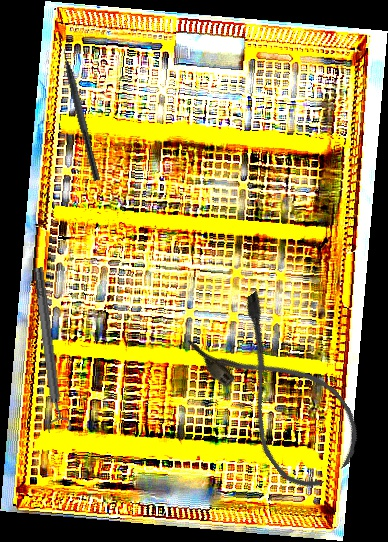Cannula: (184, 287, 376, 500)
Chopper: (56, 37, 110, 182)
Fixation Ring: (26, 265, 73, 434)
